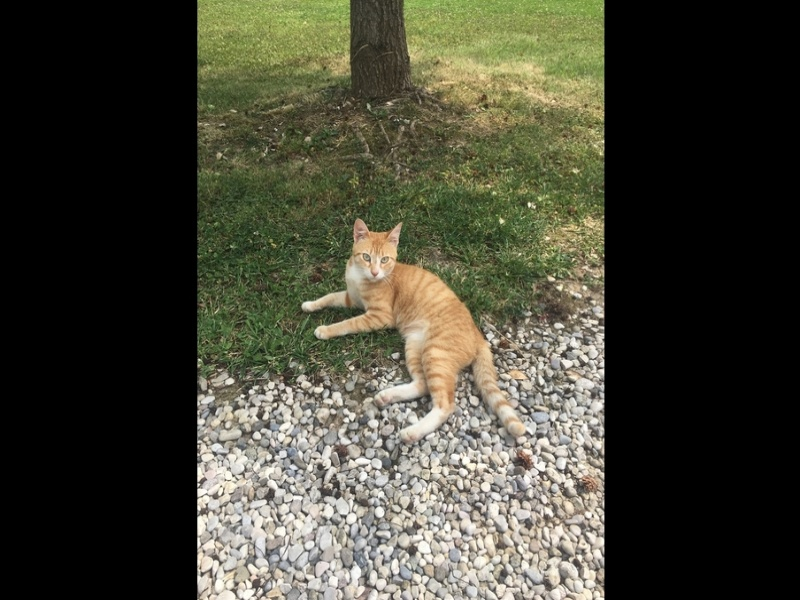cat: (297, 215, 528, 448)
